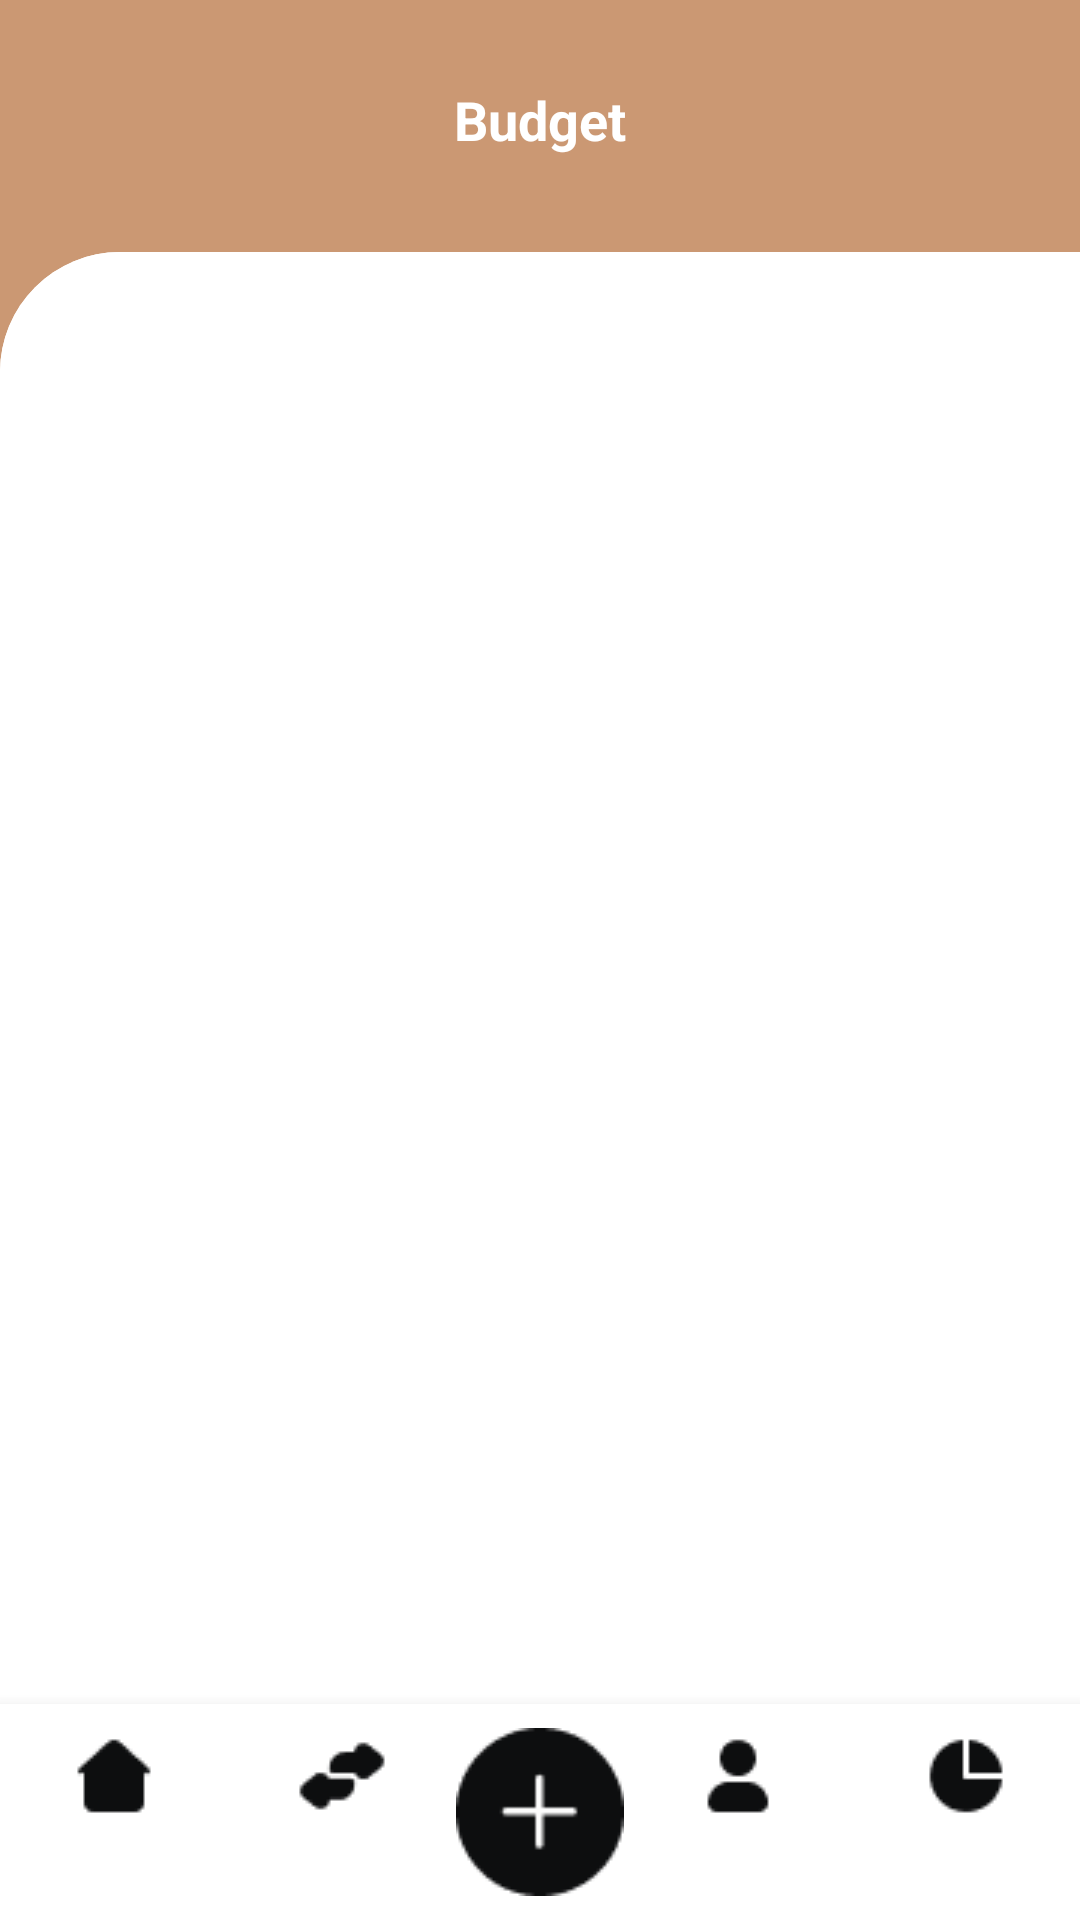

Icons on this 1080*1920 Android screen, each with its box as (x1, y1, x2, y2):
Create Expense: (456, 1728, 624, 1896)
Home: (77, 1739, 151, 1813)
Profile: (707, 1739, 769, 1813)
Transactions: (299, 1742, 385, 1810)
